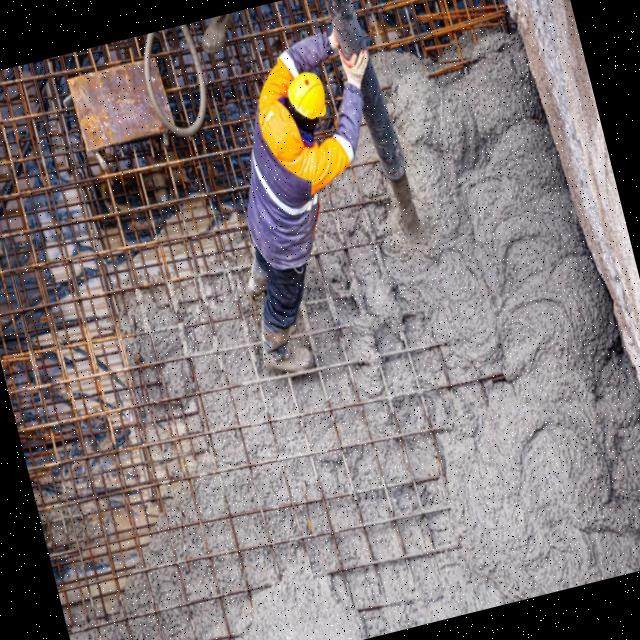Helmet: (282, 68, 332, 128)
Jacket: (239, 109, 337, 262)
